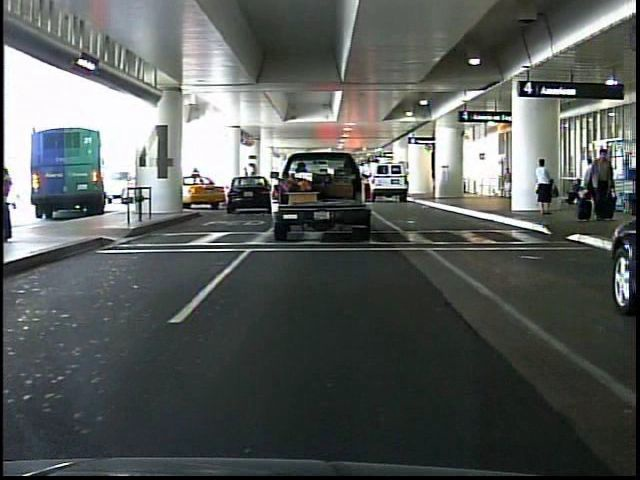person: (585, 145, 616, 225), (532, 155, 556, 216), (581, 154, 605, 212), (495, 164, 512, 206)
